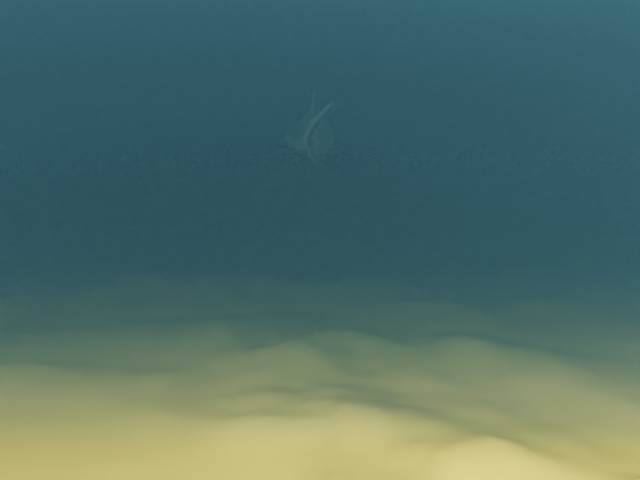Carribean Shark.001: (244, 86, 382, 168)
